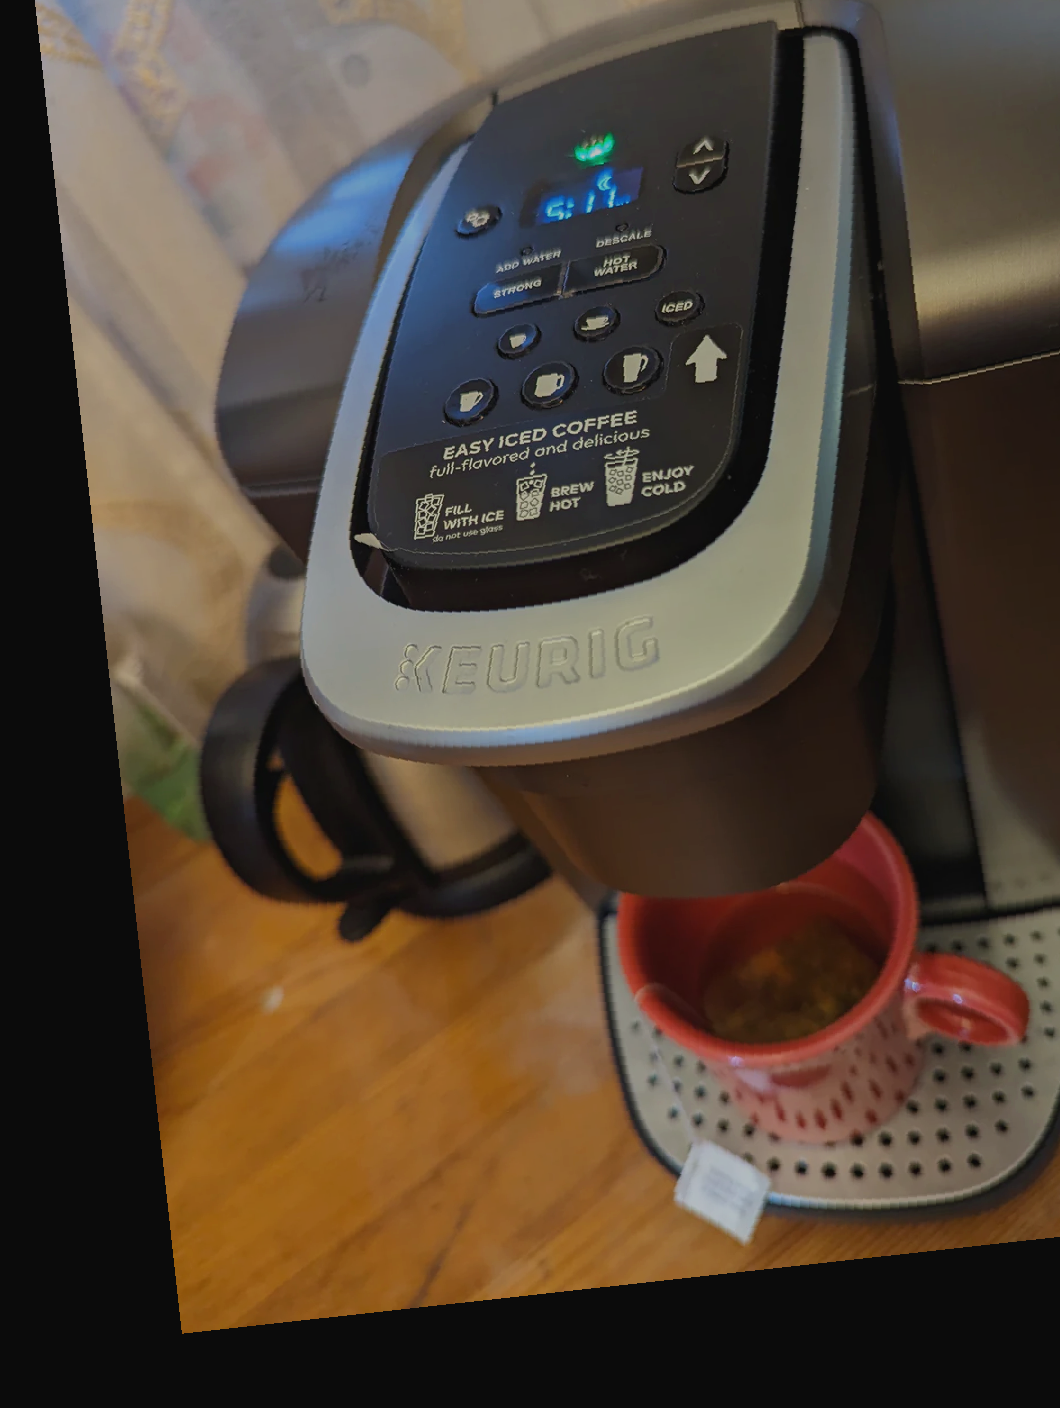10oz: (509, 348, 589, 423)
12oz: (590, 332, 670, 406)
4oz: (487, 316, 547, 365)
6oz: (566, 299, 626, 347)
8oz: (429, 364, 510, 439)
add_water: (488, 232, 567, 280)
coffee_handle: (362, 703, 617, 776)
descale: (578, 209, 657, 258)
hot: (565, 239, 662, 294)
iced: (647, 278, 714, 337)
power: (565, 125, 626, 167)
strong: (465, 264, 563, 318)
